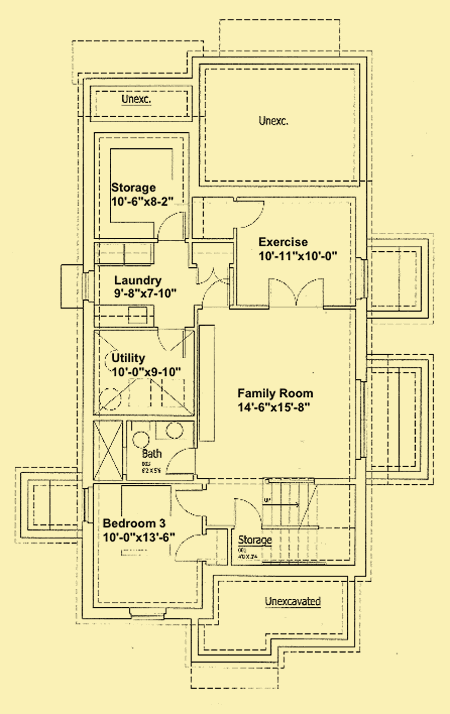door: (262, 274, 329, 312), (167, 485, 213, 517), (229, 492, 264, 533), (151, 325, 198, 355), (231, 192, 267, 230), (154, 207, 192, 242), (199, 273, 233, 311), (170, 533, 209, 566), (164, 445, 200, 480)
large sink: (128, 418, 153, 451)
small sink: (156, 416, 195, 444)
stairs: (256, 473, 363, 570)
windows: (351, 373, 373, 464), (126, 598, 169, 627), (350, 249, 369, 303), (81, 263, 99, 308), (81, 483, 96, 530)
